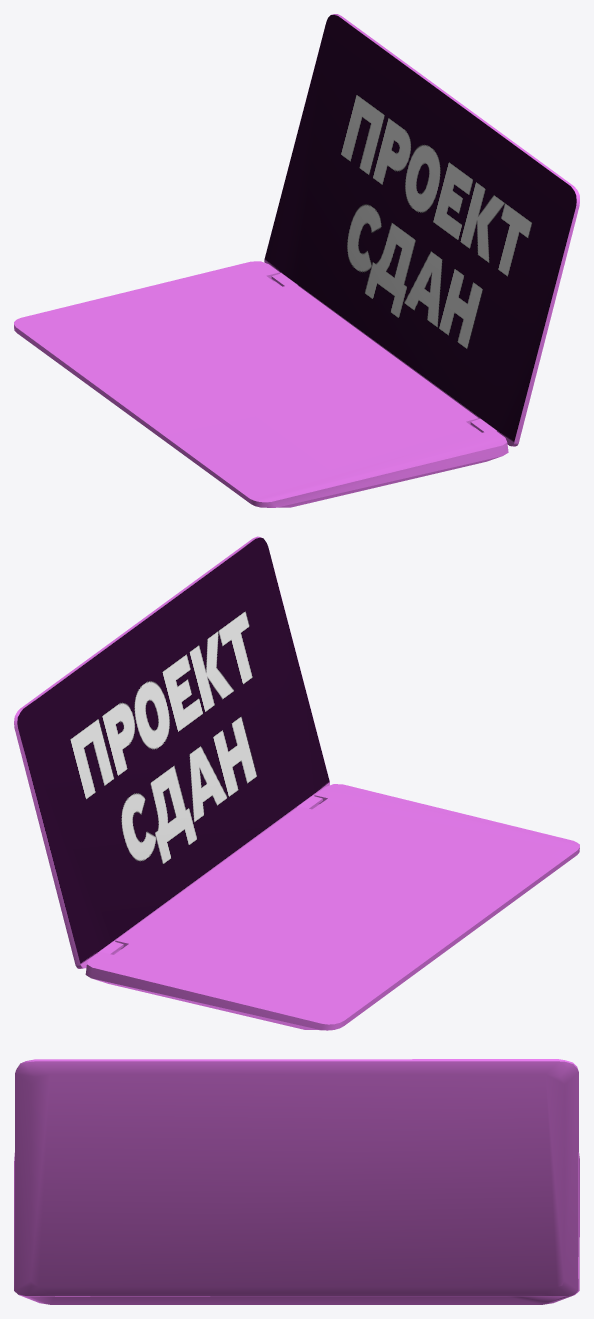
The model's file is notebook.fbx.
3 views of the same model, one above another, from view 1: azimuth 30°, elevation 25°; view 2: azimuth 150°, elevation 25°; view 3: azimuth 270°, elevation 25° (orthographic). The views are drawn at different scales.
Visible parts, largest first — view 1: Lowpoly_Notebook_Display_Plane; view 2: Lowpoly_Notebook_Display_Plane; view 3: Lowpoly_Notebook_Display_Plane.
Part boxes in pixels (x1,y1,x2,y2): Lowpoly_Notebook_Display_Plane: (14,14,579,507); Lowpoly_Notebook_Display_Plane: (14,536,579,1030); Lowpoly_Notebook_Display_Plane: (14,1059,579,1304).
Size of the model in its own units: 1.38 by 1.04 by 1.86.
Materials: 1 (1 with a texture image).
